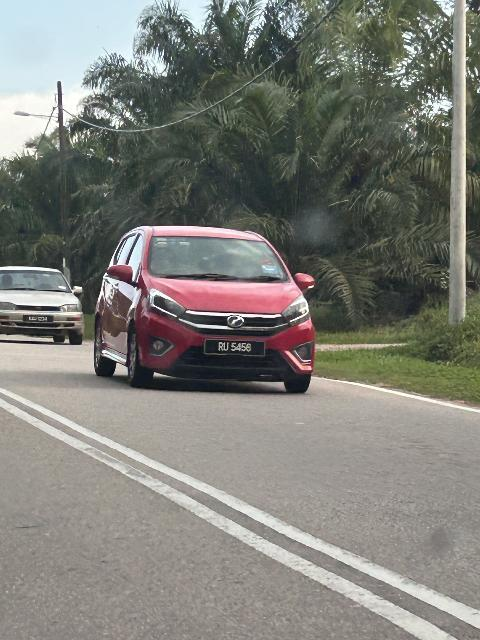License_Plate: (205, 339, 268, 360), (23, 315, 55, 326)
RU5456: (205, 339, 268, 360)
car: (79, 219, 320, 399), (1, 260, 85, 347)
